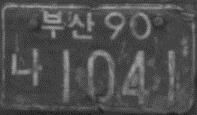0: (86, 48, 115, 103), (128, 12, 152, 41)
1: (56, 49, 75, 103), (162, 50, 181, 101)
4: (121, 49, 150, 104)
9: (103, 11, 126, 39)
나: (10, 47, 43, 86)
부산_O: (41, 10, 96, 39)
